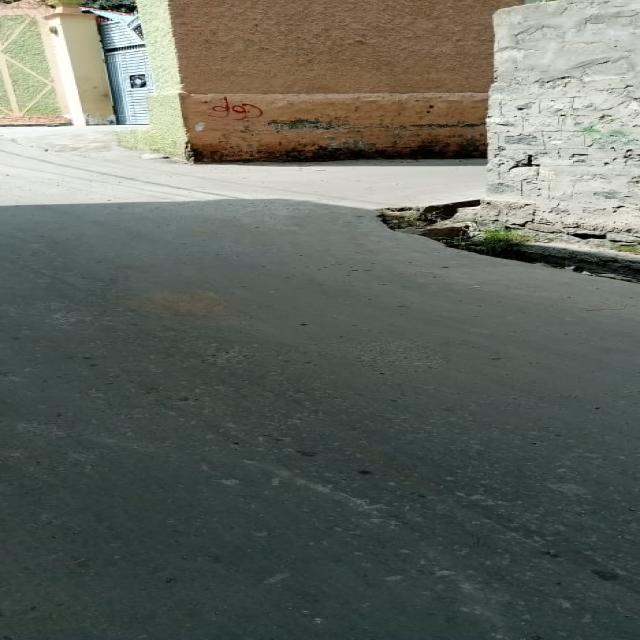Right-Turn: (74, 152, 454, 318)
